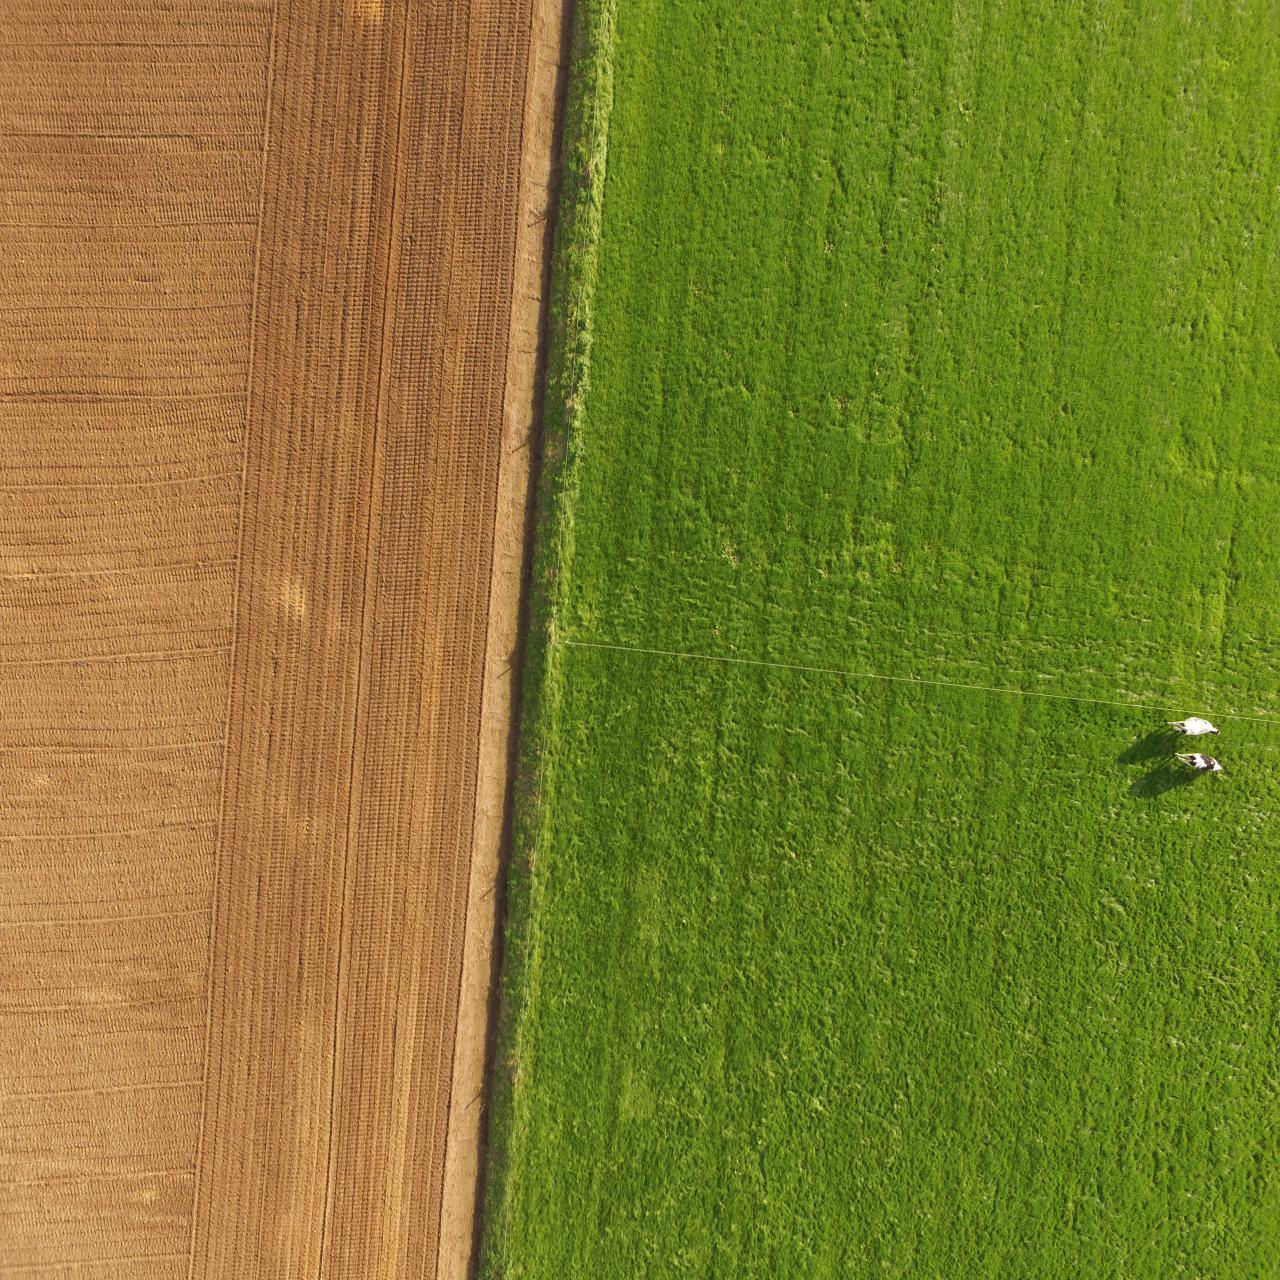cow: (1165, 714, 1221, 736), (1172, 751, 1224, 772)
